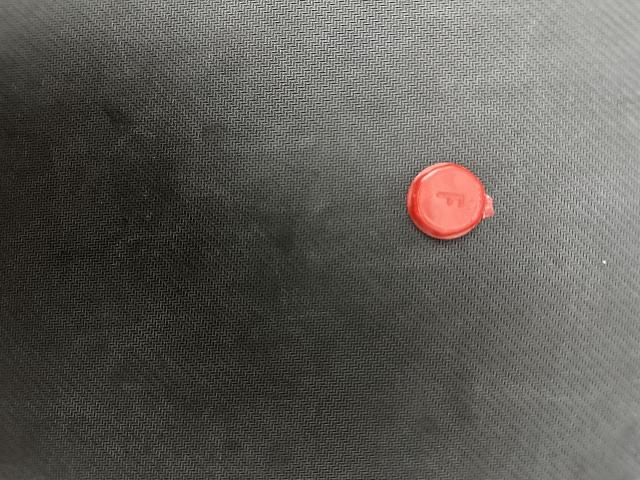Plastik: (403, 162, 502, 240)
